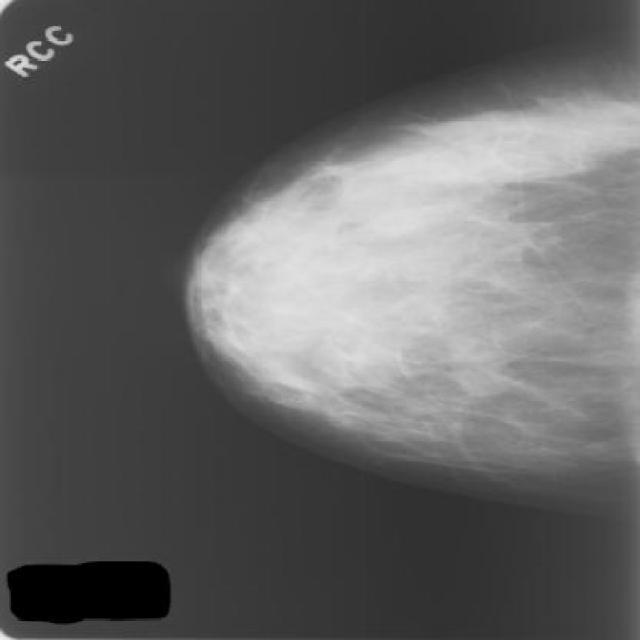tumor: (240, 112, 593, 448)
